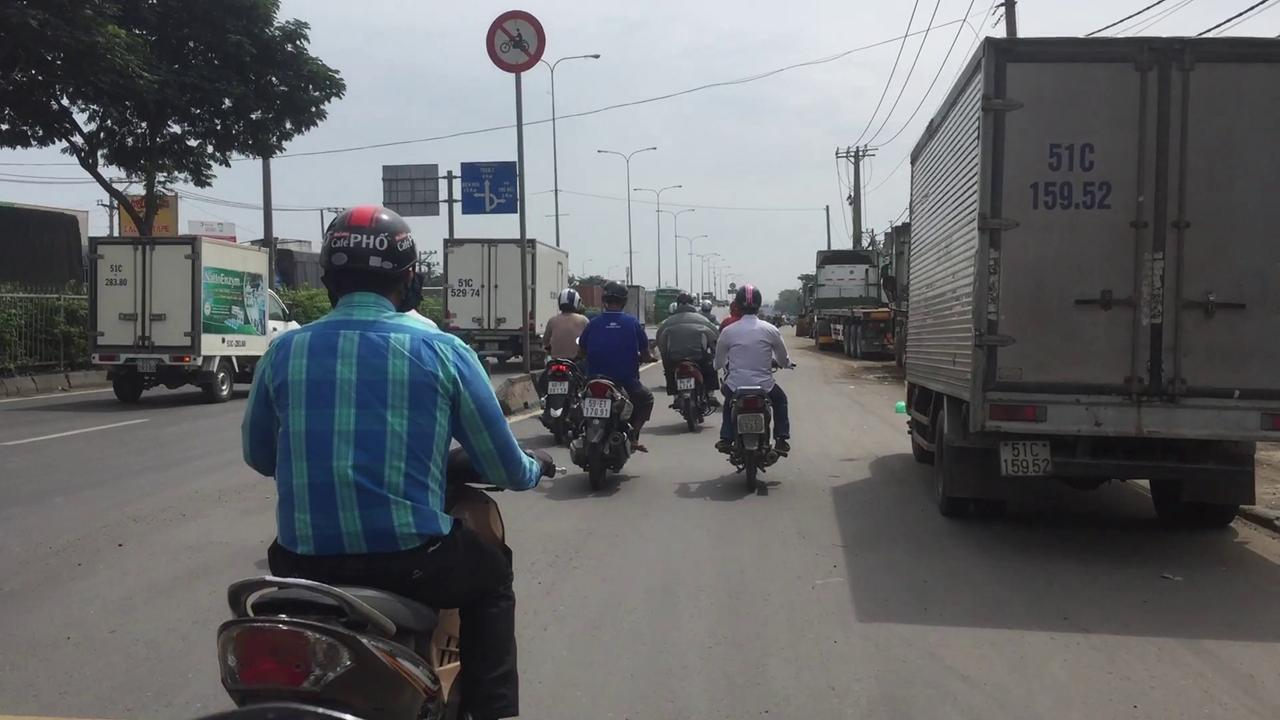P.103b: (480, 10, 549, 70)
